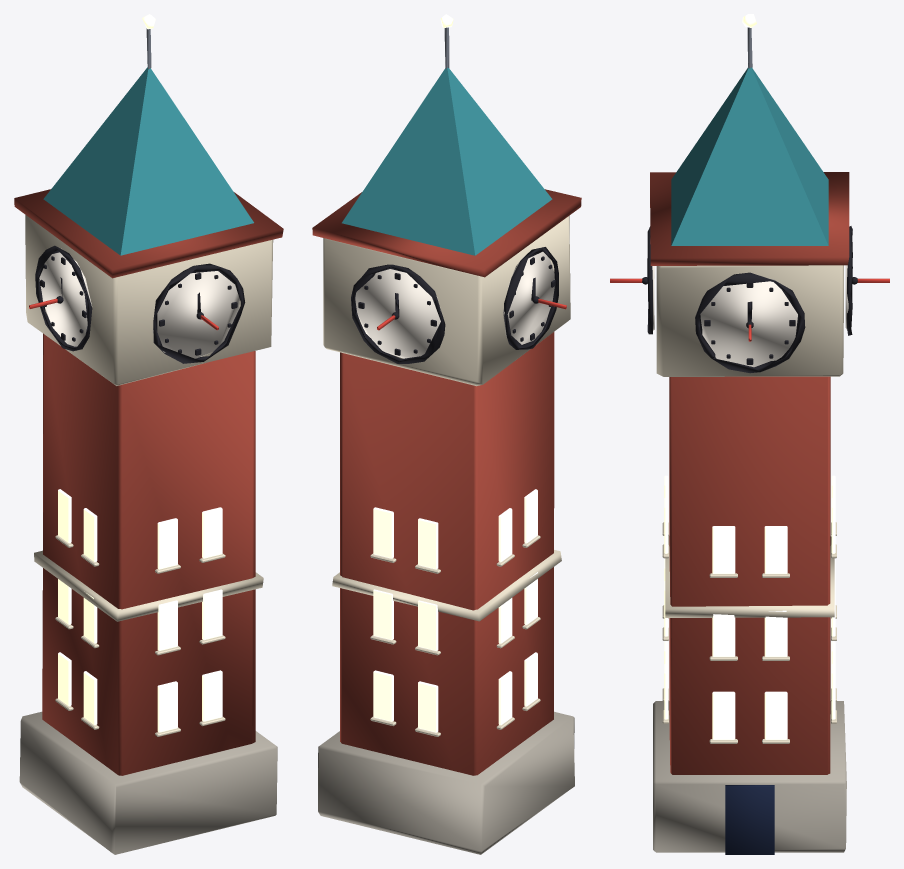
The model's file is clock_tower.glb.
3 views of the same model, side by side, from view 1: azimuth 30°, elevation 25°; view 2: azimuth 150°, elevation 25°; view 3: azimuth 270°, elevation 25° (orthographic).
Parts seen in each view (by area): view 1: clock_tower.007; view 2: clock_tower.007; view 3: clock_tower.007.
Boxes of the visible parts, x1=… form: clock_tower.007: x1=14, y1=14, x2=283, y2=854; clock_tower.007: x1=312, y1=14, x2=581, y2=854; clock_tower.007: x1=647, y1=14, x2=852, y2=854.
Bounding box in the file's own units: 8.56 × 27.02 × 8.56.
1 material, 1 textured.
